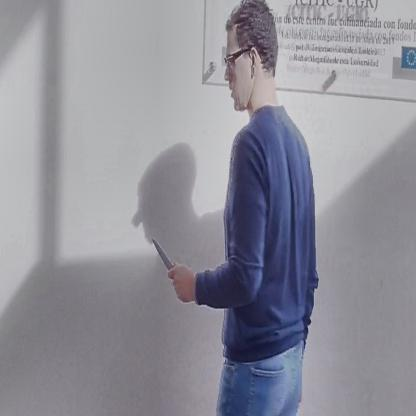knife: (149, 229, 185, 298)
